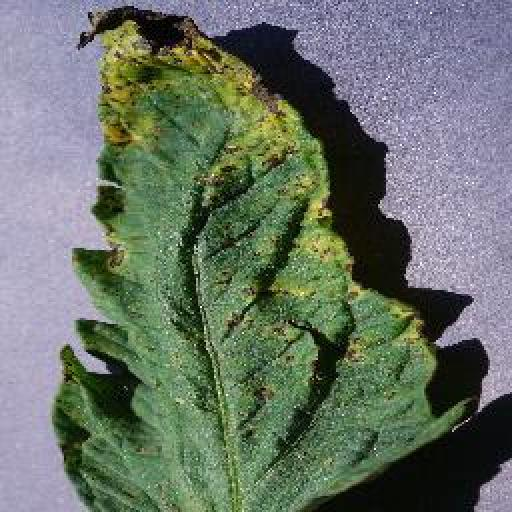Septoria: (54, 5, 476, 512)
